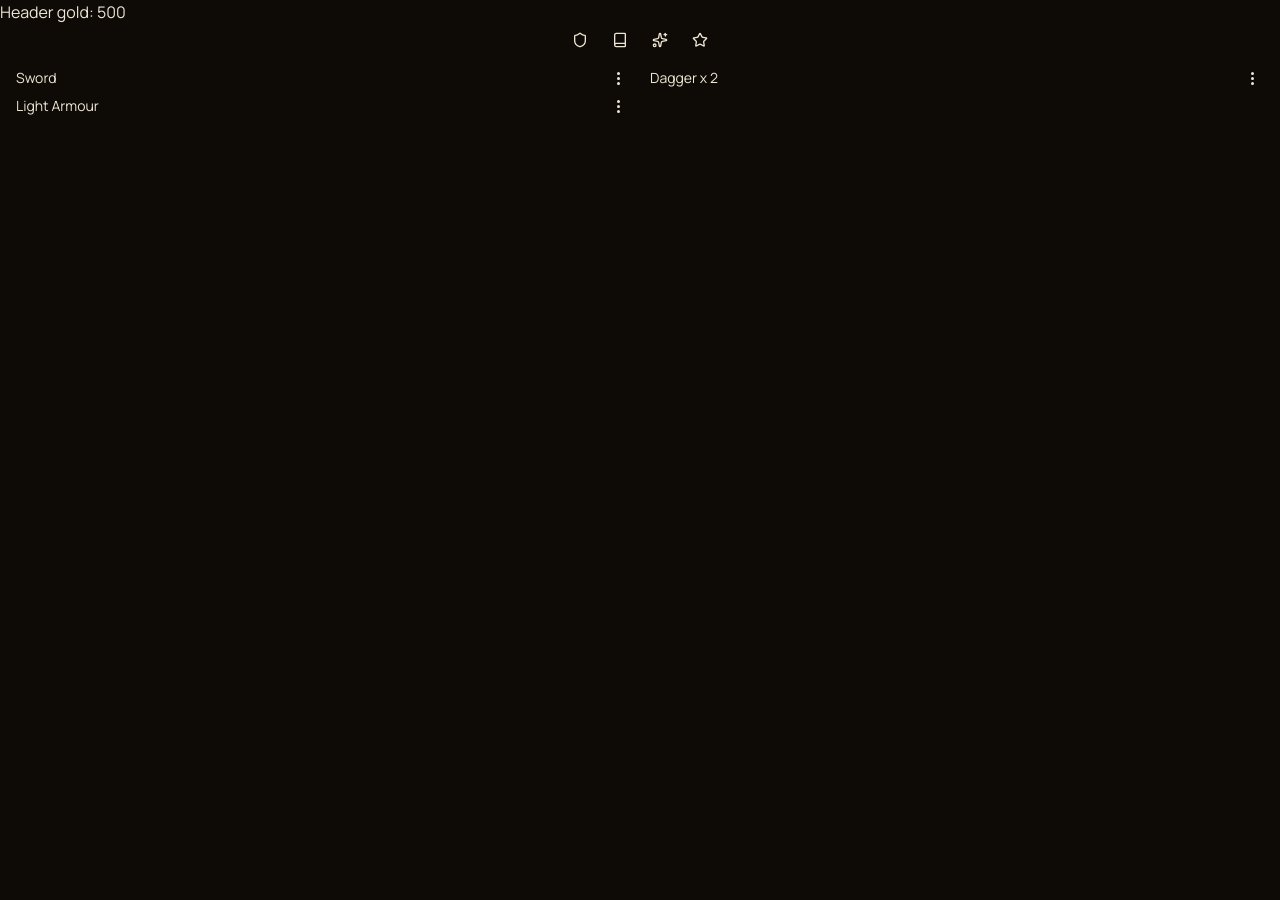
Scenario: unit item menu: Move › offers the other units of the warband on screen as Move targets (BUG-107)
Click the button named "Actions for Dagger x 2" at [1252, 78], box [1244, 68, 1260, 88]
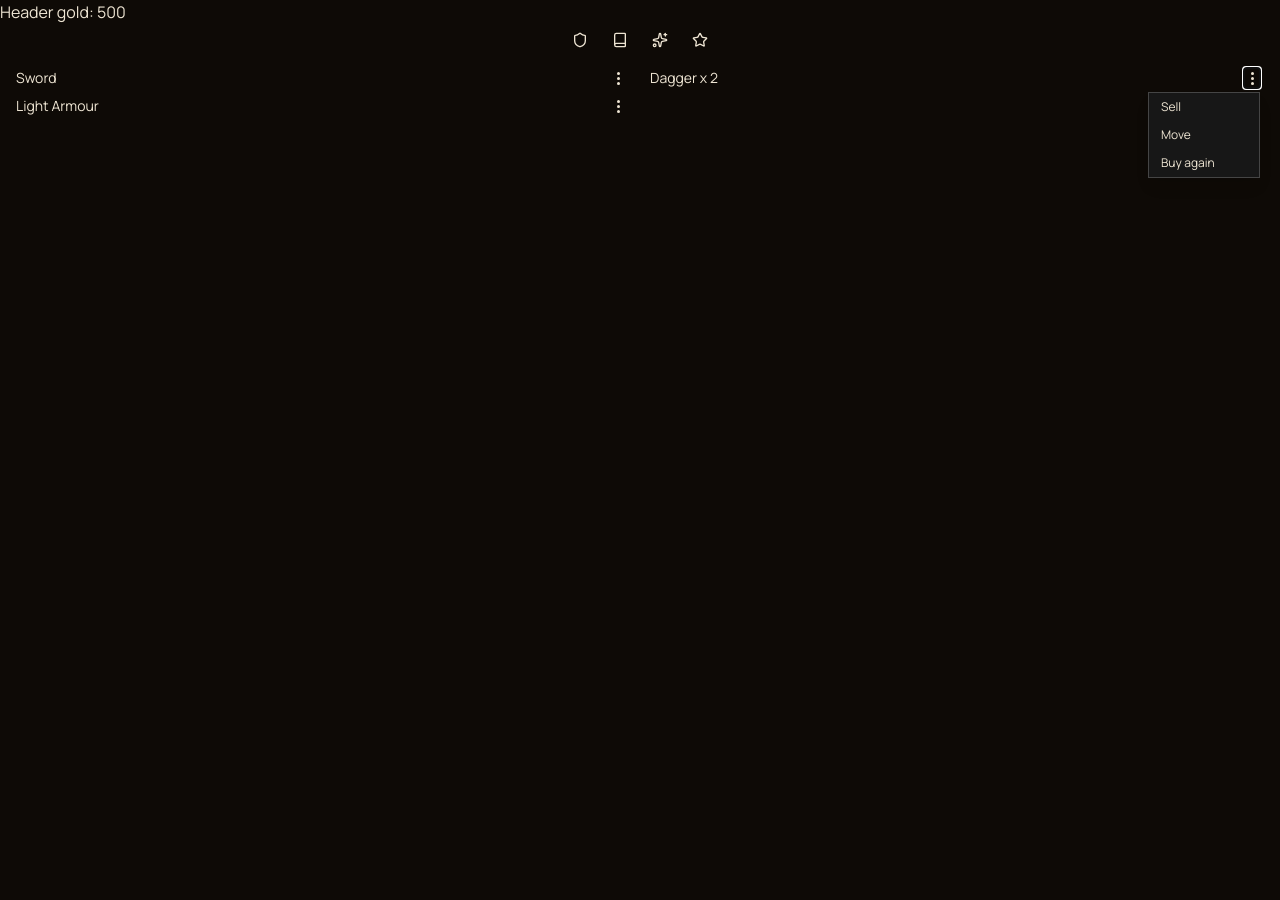
Click the button "Move" at [1204, 135], box [1149, 121, 1259, 149]
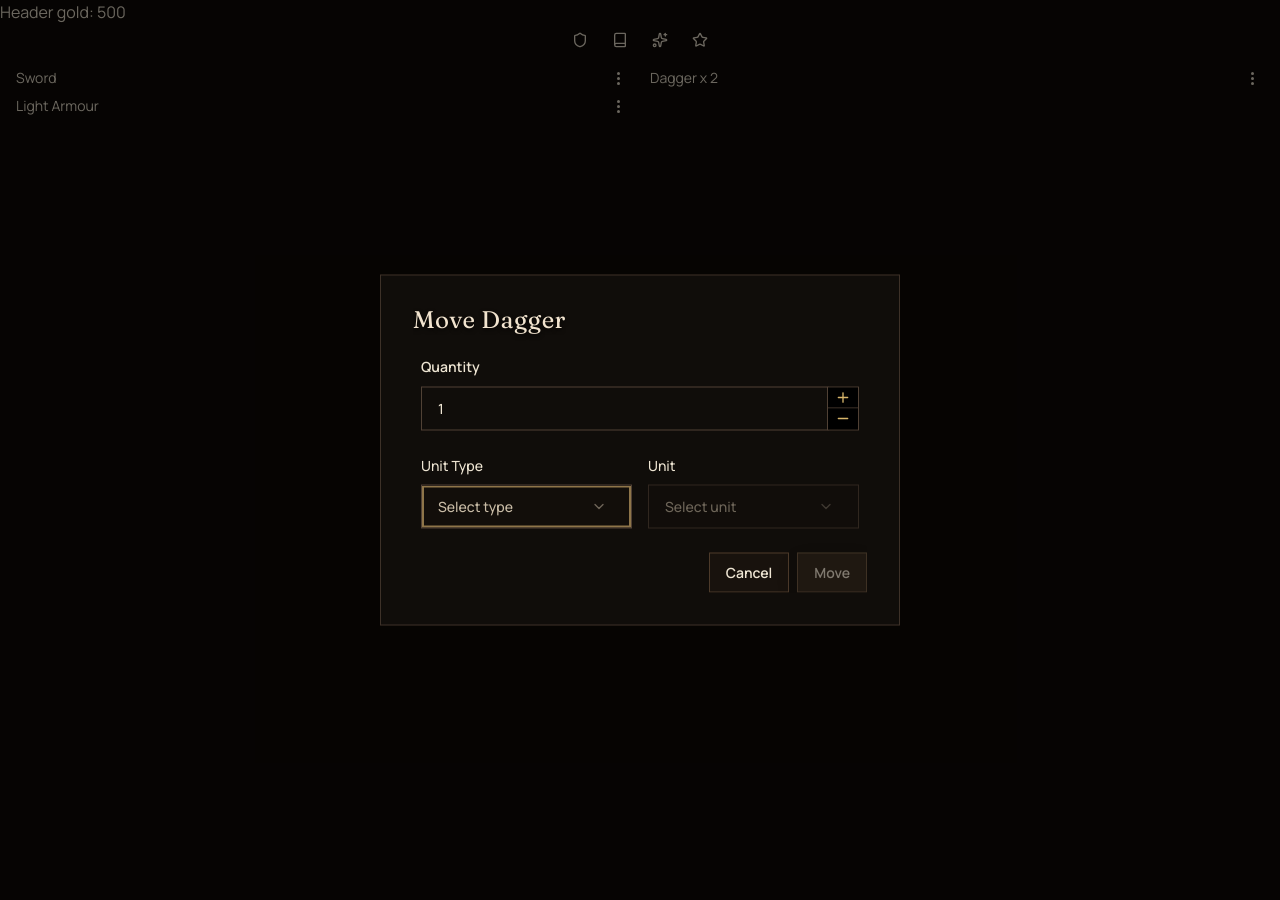
Press Enter
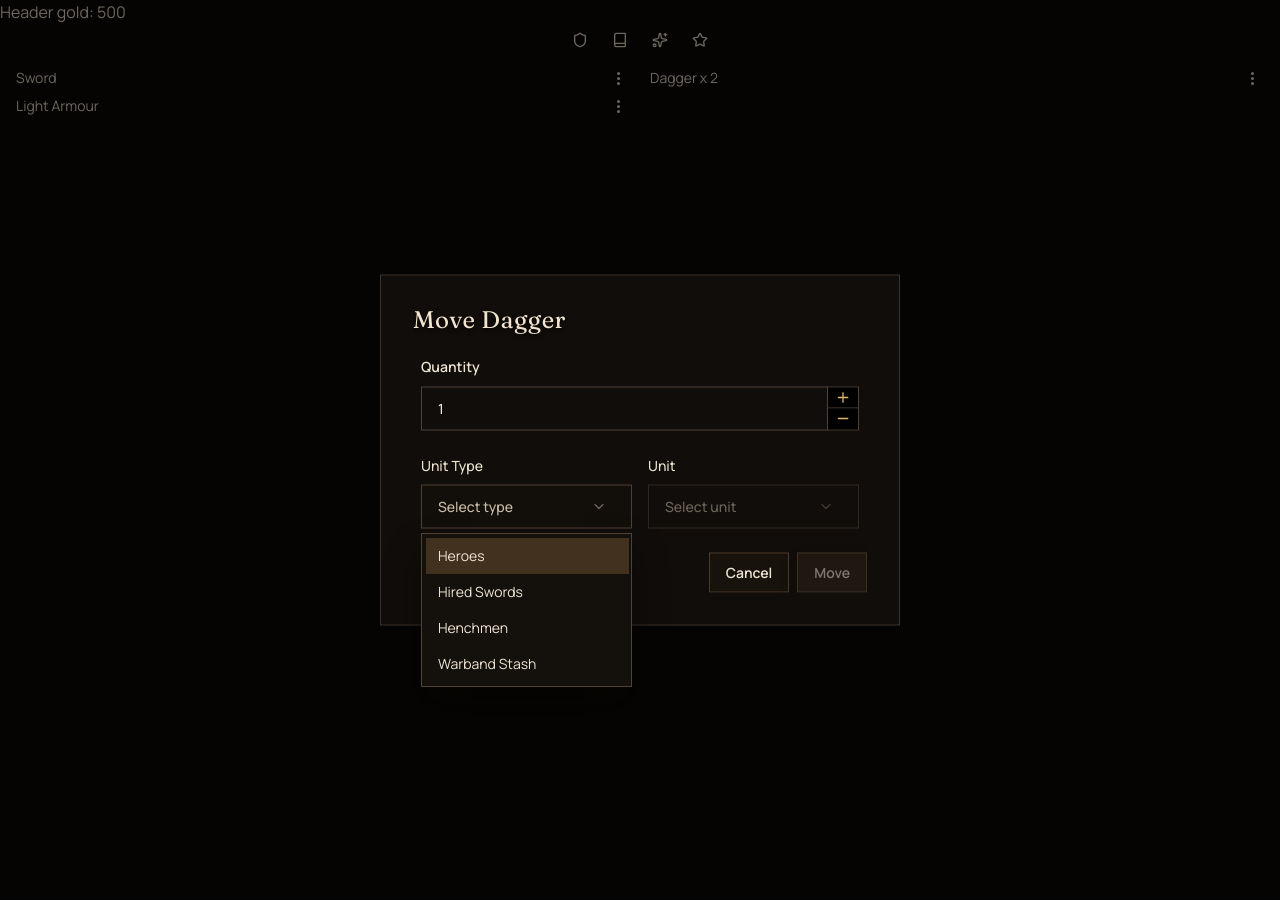
Press Enter
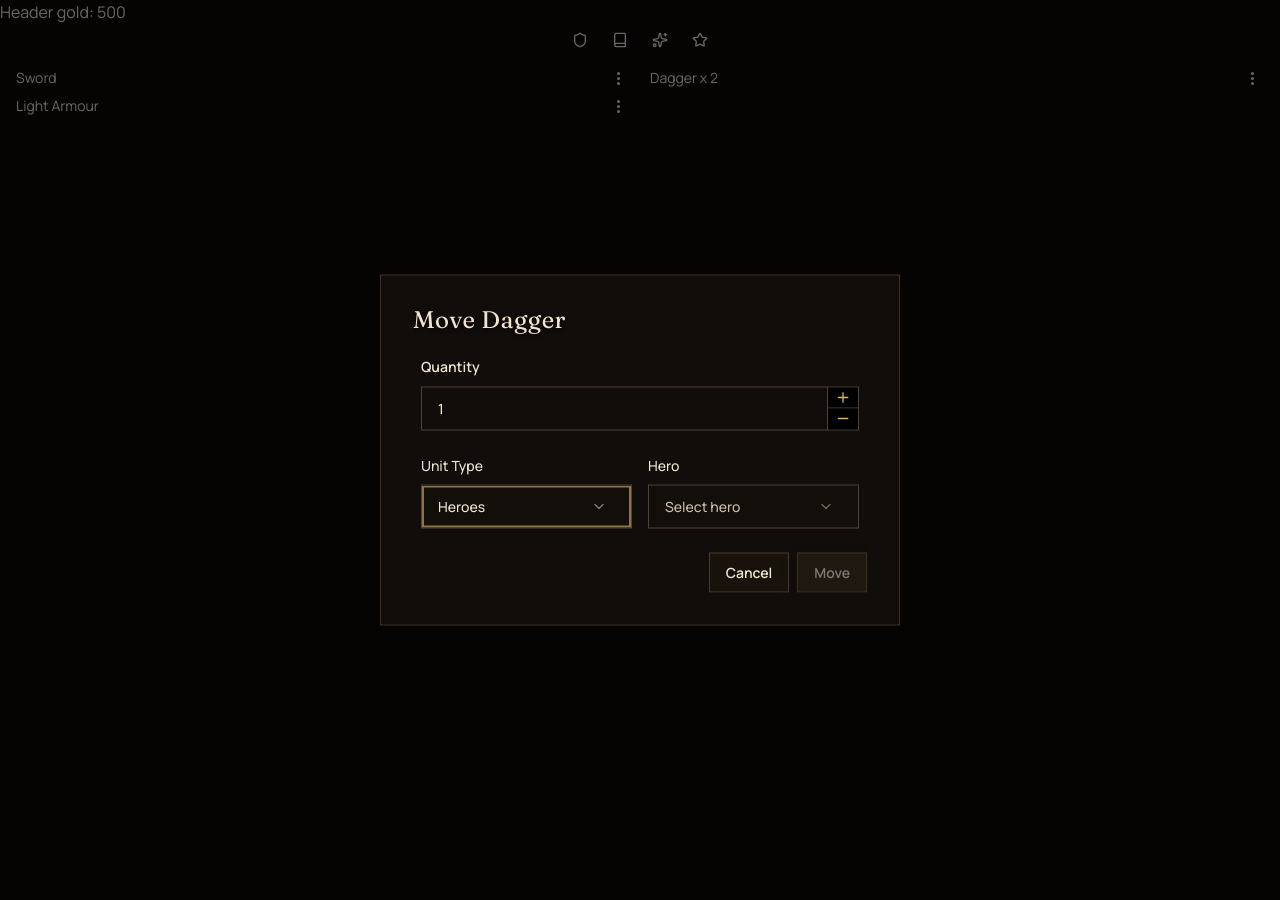
Click the dropdown labelled "Select hero" at [754, 506], box [648, 484, 859, 528]
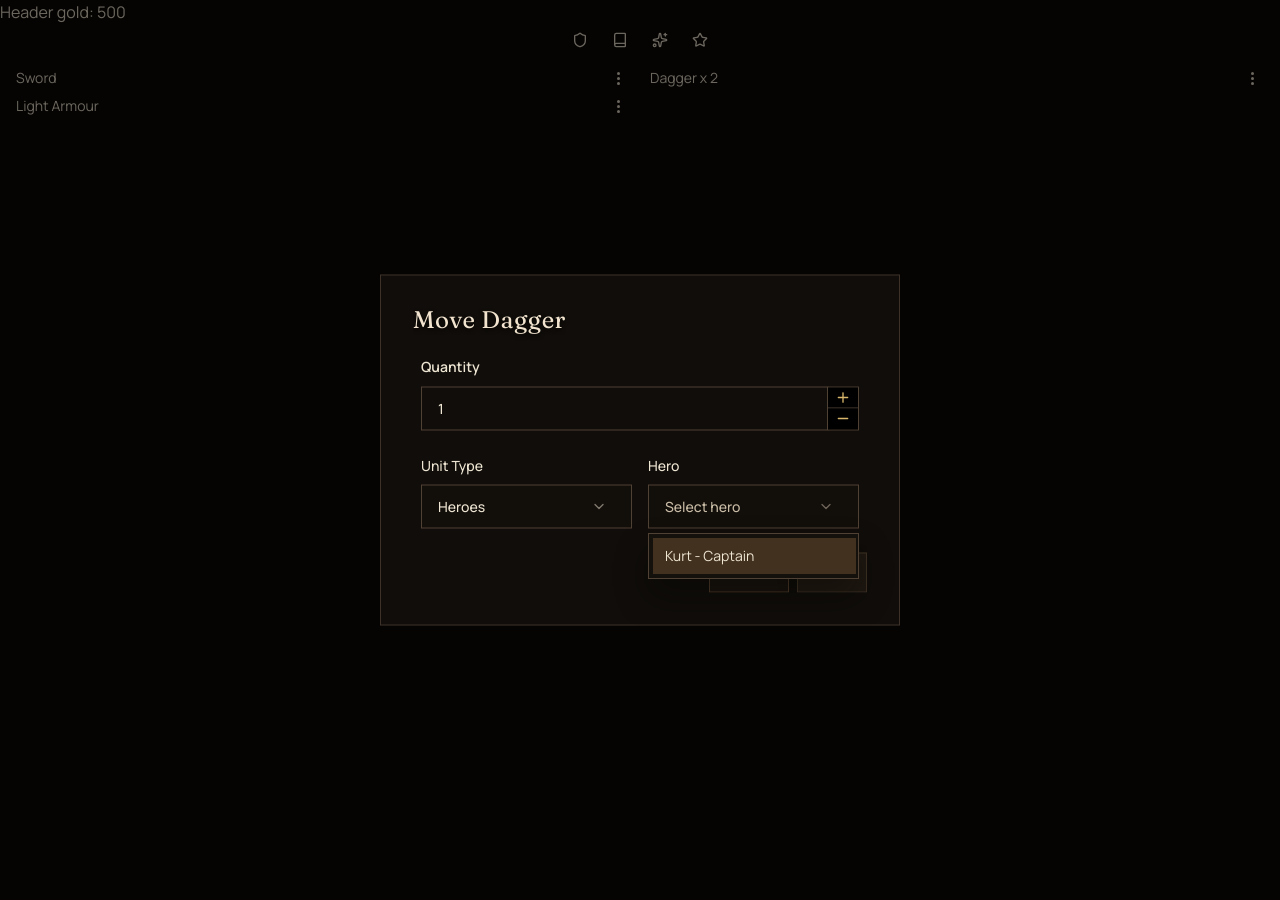
Expected: the options read "Kurt - Captain", in this order, [653, 538, 856, 574]
